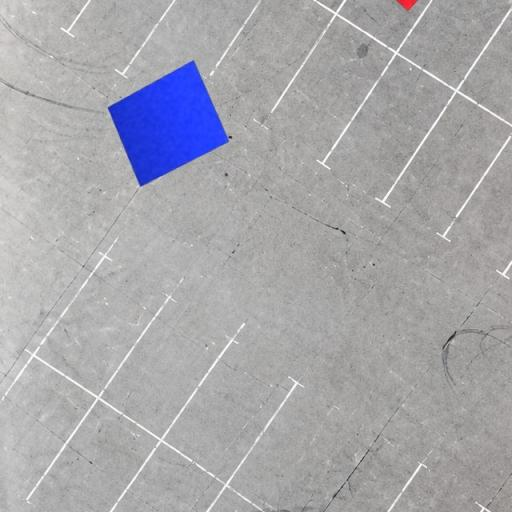BLUE_SQUARE: (107, 59, 230, 187)
